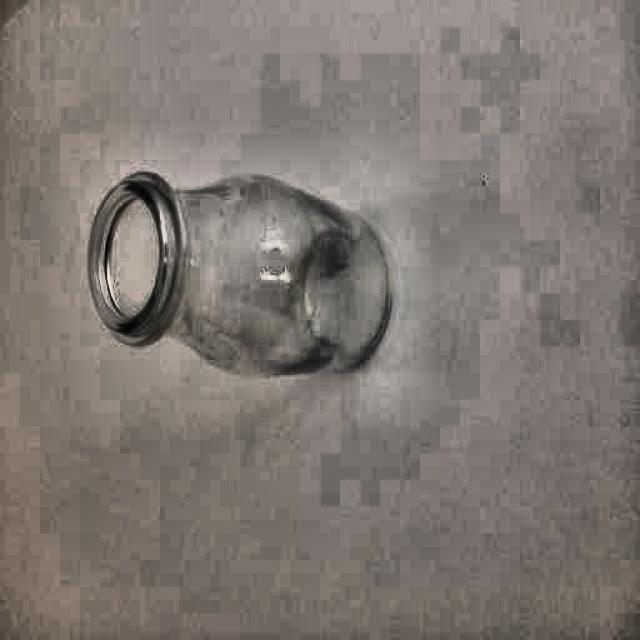glass: (88, 166, 390, 385)
